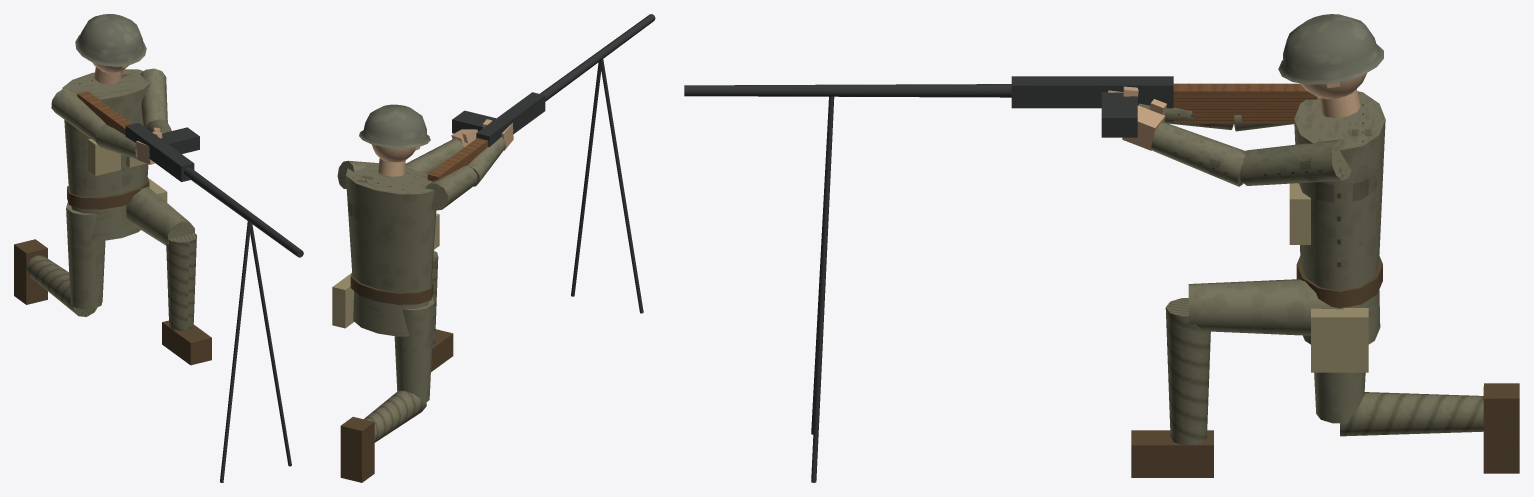
File: infantry-2.glb
3 renders of one model, left to right at view 1: azimuth 30°, elevation 25°; view 2: azimuth 150°, elevation 25°; view 3: azimuth 270°, elevation 25°, orthographic. The views are drawn at different scales.
Visible parts, largest first — view 1: body, rifle, shin_left, head, leg_right, shin_right, leg_left, arm_right, arm_left, forearm_right; view 2: body, rifle, shin_right, head, leg_right, arm_right, forearm_left, shin_left, forearm_right, arm_left; view 3: body, rifle, shin_left, shin_right, head, leg_left, forearm_left, arm_left, leg_right.
Part boxes in pixels (<box>): body: <box>62,69,167,241</box>; rifle: <box>77,91,303,482</box>; shin_left: <box>162,233,211,365</box>; head: <box>75,14,146,84</box>; leg_right: <box>66,202,105,309</box>; shin_right: <box>14,239,97,316</box>; leg_left: <box>126,187,194,245</box>; arm_right: <box>51,88,106,141</box>; arm_left: <box>140,68,167,128</box>; forearm_right: <box>95,124,162,164</box>; body: <box>332,163,439,336</box>; rifle: <box>427,14,655,313</box>; shin_right: <box>340,390,426,482</box>; head: <box>359,104,430,176</box>; leg_right: <box>394,297,434,403</box>; arm_right: <box>425,165,477,210</box>; forearm_left: <box>405,129,477,174</box>; shin_left: <box>431,251,453,371</box>; forearm_right: <box>468,119,513,186</box>; arm_left: <box>337,160,413,188</box>; body: <box>1289,91,1385,372</box>; rifle: <box>684,76,1317,482</box>; shin_left: <box>1131,298,1213,477</box>; shin_right: <box>1340,383,1519,473</box>; head: <box>1278,14,1383,118</box>; leg_left: <box>1188,279,1343,335</box>; forearm_left: <box>1122,99,1245,186</box>; arm_left: <box>1240,139,1351,185</box>; leg_right: <box>1314,372,1365,423</box>.
Size of the model in its own units: 0.5803 by 1.41 by 2.32.
Materials: 7 (7 with a texture image).
